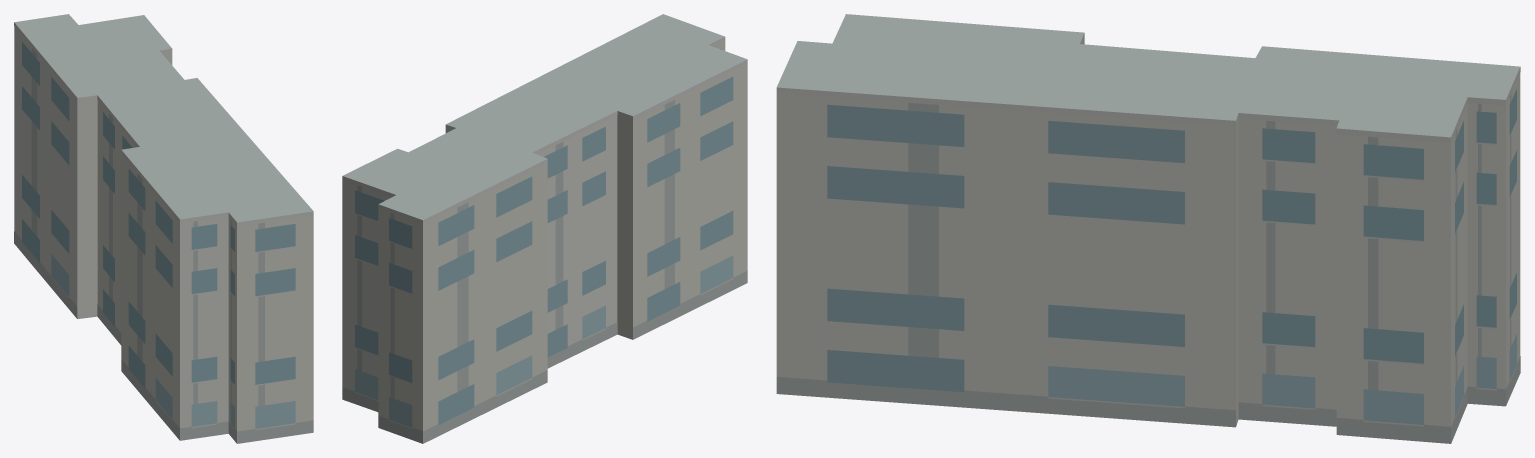
The model's file is survey-upis-32704556.glb.
3 views of the same model, side by side, from view 1: azimuth 30°, elevation 25°; view 2: azimuth 150°, elevation 25°; view 3: azimuth 270°, elevation 25° (orthographic). The views are drawn at different scales.
Parts seen in each view (by area): view 1: survey-upis-32704556.tmp; view 2: survey-upis-32704556.tmp; view 3: survey-upis-32704556.tmp.
Part boxes in pixels (bbox=[...]): survey-upis-32704556.tmp: bbox=[14, 14, 313, 443]; survey-upis-32704556.tmp: bbox=[342, 14, 747, 443]; survey-upis-32704556.tmp: bbox=[776, 14, 1520, 443].
Bounding box in the file's own units: 11.24 × 13 × 28.61.
